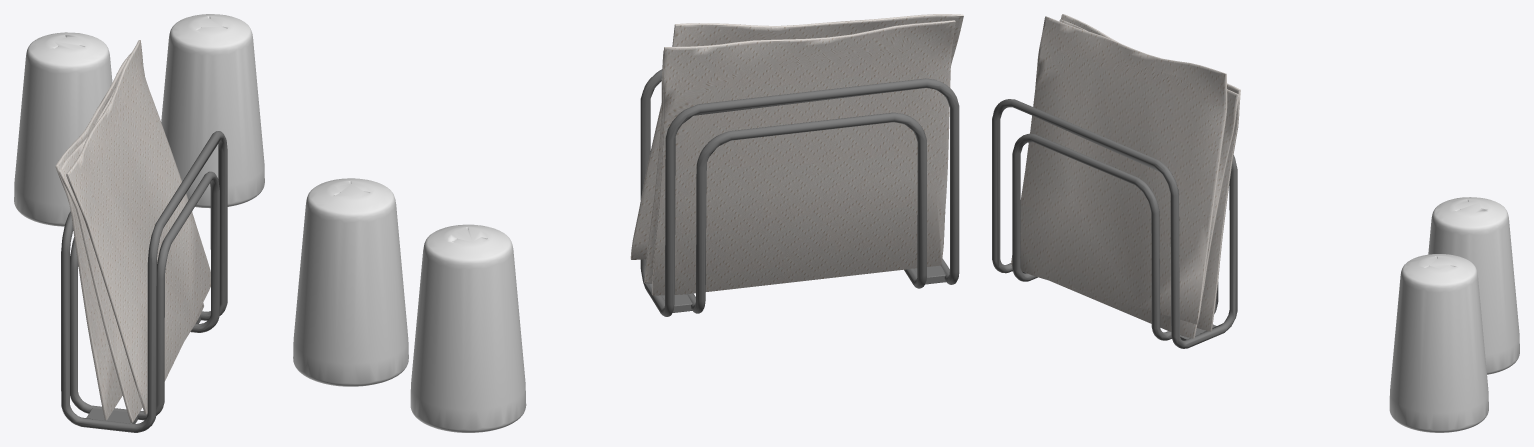
The model's file is saltandpapper.fbx.
3 renders of one model, left to right at view 1: azimuth 30°, elevation 25°; view 2: azimuth 150°, elevation 25°; view 3: azimuth 270°, elevation 25°, orthographic. The views are drawn at different scales.
Visible parts, largest first — view 1: Salt&paperTowelsOBJ.002, Salt&paperTowelsOBJ.001, Salt&paperTowelsOBJ; view 2: Salt&paperTowelsOBJ.002, Salt&paperTowelsOBJ.001, Salt&paperTowelsOBJ; view 3: Salt&paperTowelsOBJ.002, Salt&paperTowelsOBJ.001, Salt&paperTowelsOBJ.
Boxes of the visible parts, x1=… form: Salt&paperTowelsOBJ.002: x1=55, y1=40, x2=210, y2=422; Salt&paperTowelsOBJ.001: x1=14, y1=14, x2=264, y2=226; Salt&paperTowelsOBJ: x1=61, y1=131, x2=227, y2=432; Salt&paperTowelsOBJ.002: x1=630, y1=14, x2=963, y2=295; Salt&paperTowelsOBJ.001: x1=293, y1=178, x2=526, y2=432; Salt&paperTowelsOBJ: x1=640, y1=69, x2=959, y2=316; Salt&paperTowelsOBJ.002: x1=1011, y1=14, x2=1240, y2=338; Salt&paperTowelsOBJ.001: x1=1389, y1=197, x2=1519, y2=432; Salt&paperTowelsOBJ: x1=992, y1=99, x2=1237, y2=348.
Size of the model in its own units: 2102 by 1373 by 2566.
